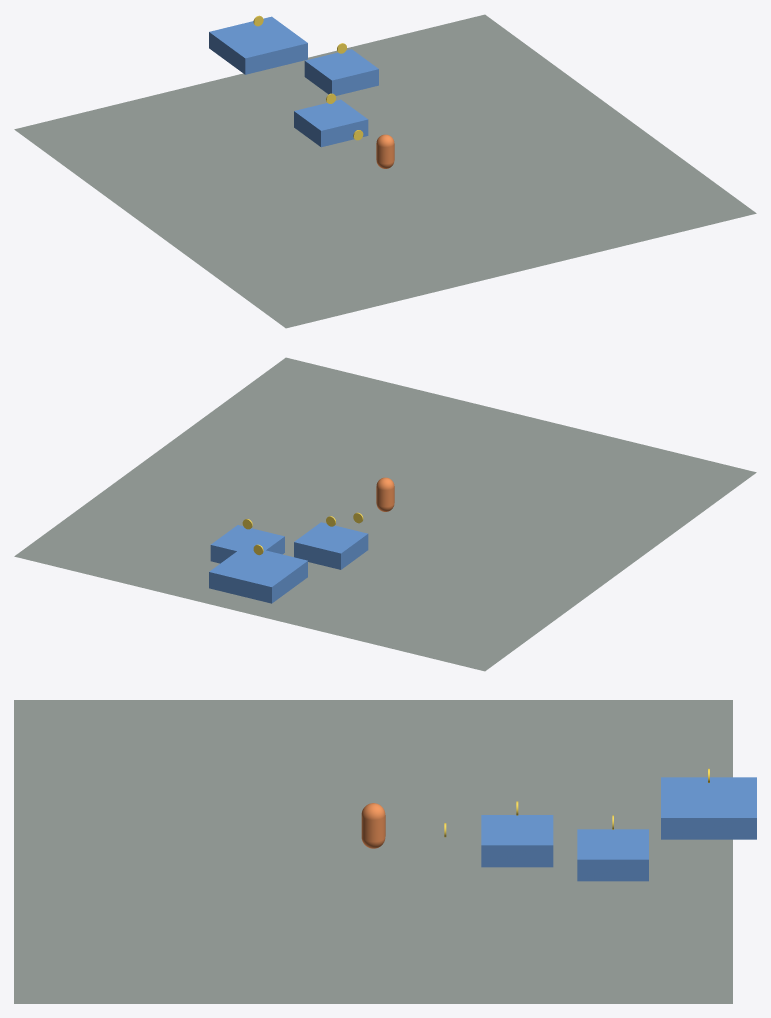
The picture shows the model from 3 angles, top to bottom: view 1: azimuth 30°, elevation 25°; view 2: azimuth 150°, elevation 25°; view 3: azimuth 270°, elevation 25°; orthographic projection. The views are drawn at different scales.
Parts seen in each view (by area): view 1: Ground, Platform3, Platform2, Platform1, Player; view 2: Ground, Platform3, Platform1, Platform2, Player; view 3: Ground, Platform3, Platform1, Platform2, Player.
Part boxes in pixels (x1,y1,x2,y2): Ground: [14, 14, 756, 328]; Platform3: [209, 16, 307, 74]; Platform2: [304, 49, 378, 95]; Platform1: [294, 99, 368, 147]; Player: [376, 134, 394, 168]; Ground: [14, 357, 756, 671]; Platform3: [209, 545, 307, 603]; Platform1: [294, 522, 368, 569]; Platform2: [210, 525, 284, 563]; Player: [376, 477, 394, 511]; Ground: [14, 700, 732, 1003]; Platform3: [661, 777, 756, 839]; Platform1: [481, 815, 553, 867]; Platform2: [577, 829, 648, 881]; Player: [361, 803, 385, 848].
Size of the model in its own units: 30 by 3.8 by 31.
